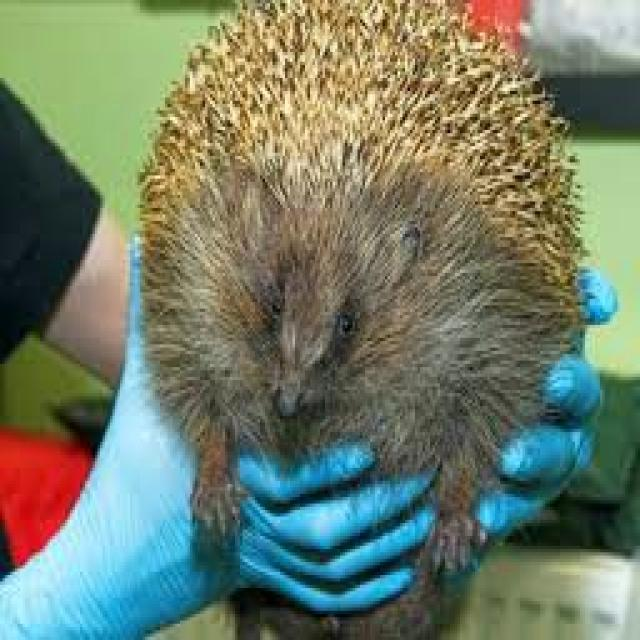hedgehog: (140, 0, 580, 637)
